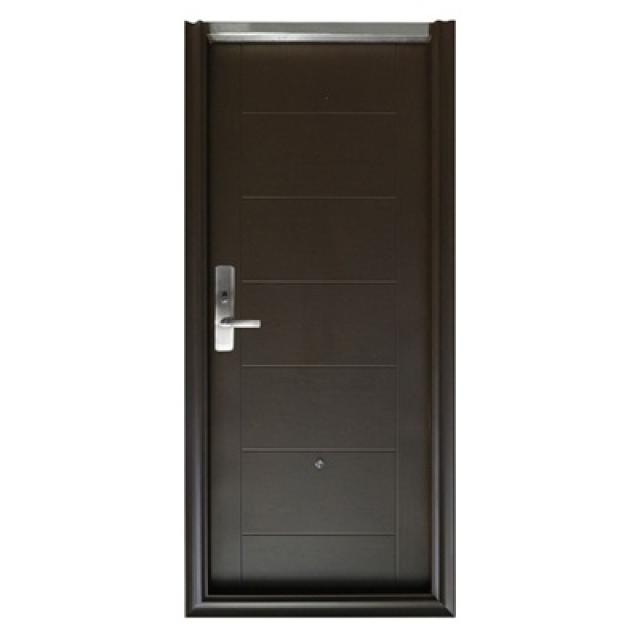door: (187, 21, 456, 616)
